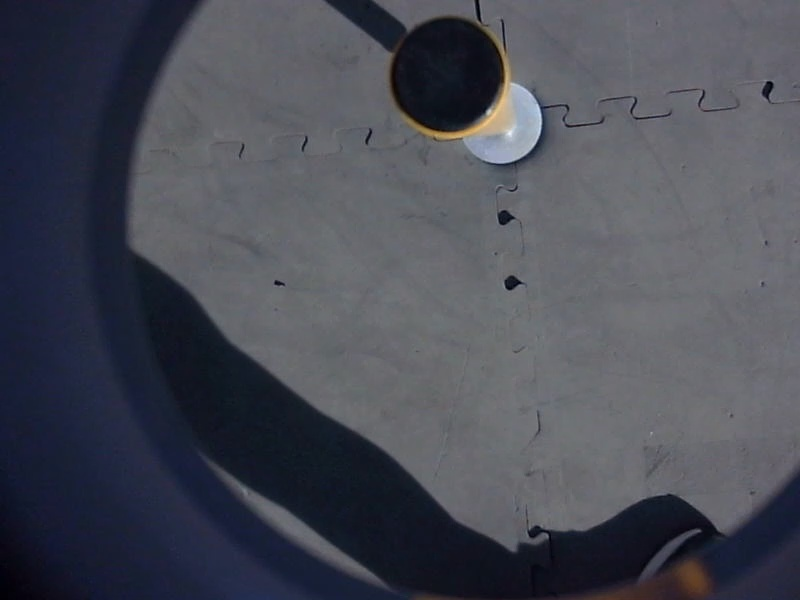tip: (382, 9, 516, 144)
